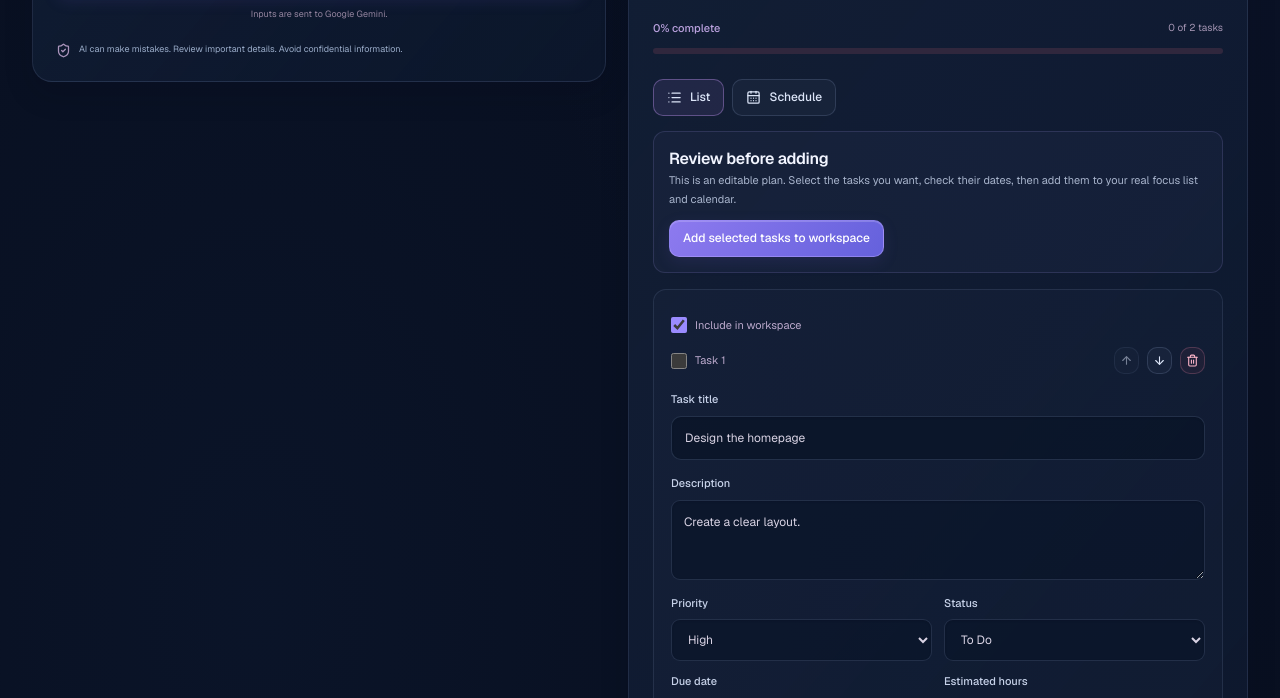
Test: editable AI workspace › tracks task completion from the real task list
The image size is (1280, 698).
(page scrolled)
Click the checkbox named "Complete Design the homepage" at (679, 361), box [671,353,687,369]
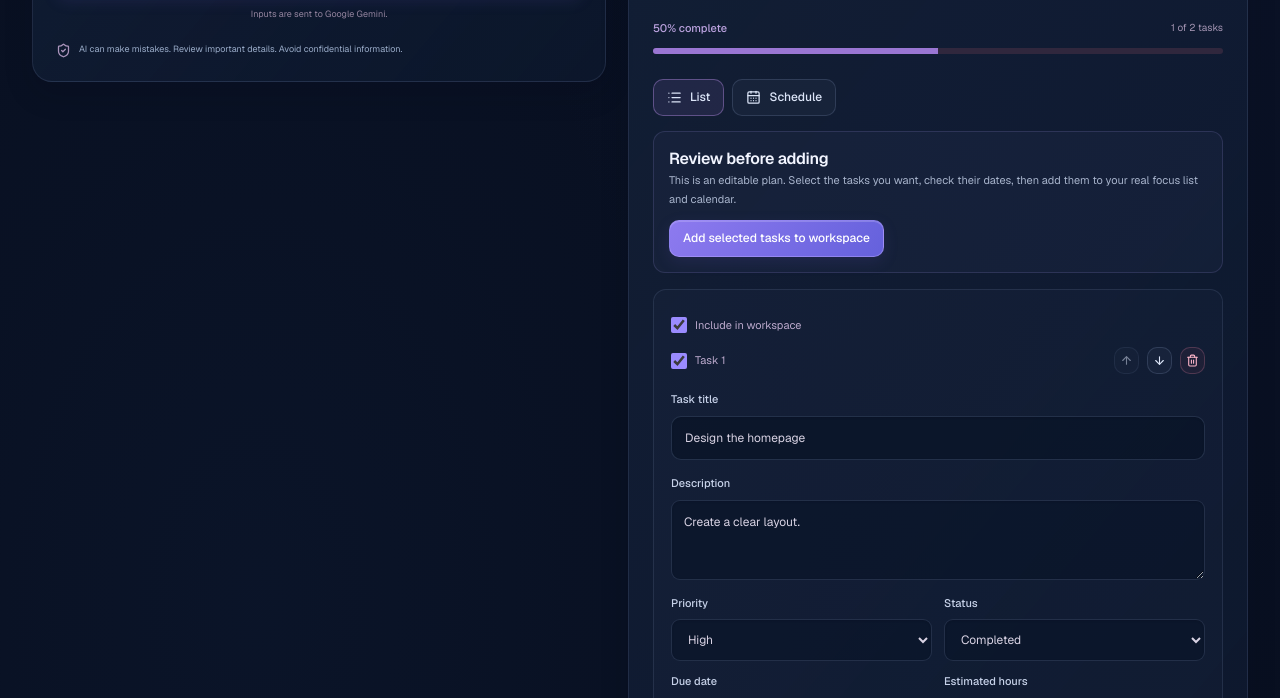
Expected: the text "50% complete" is shown, [653,20,727,36]
